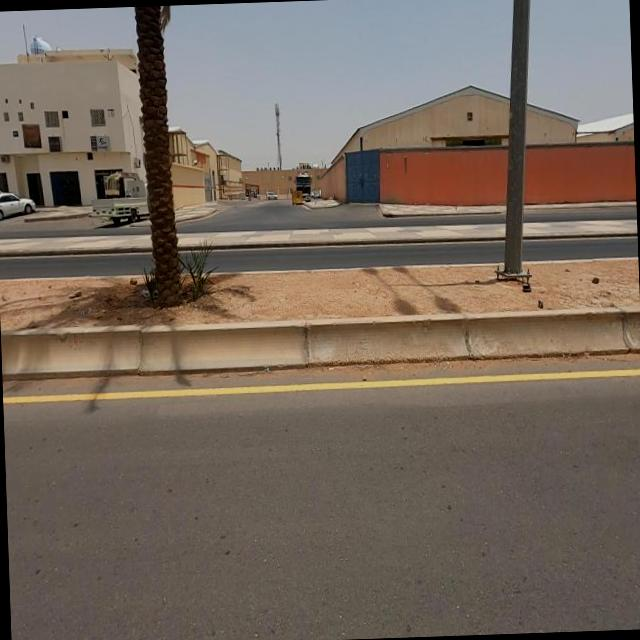debris: (494, 234, 564, 338)
